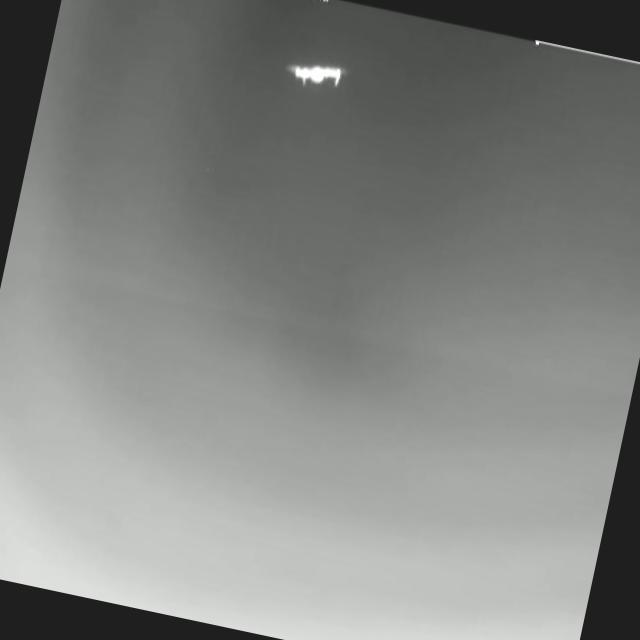DRONE: (283, 58, 350, 87)
